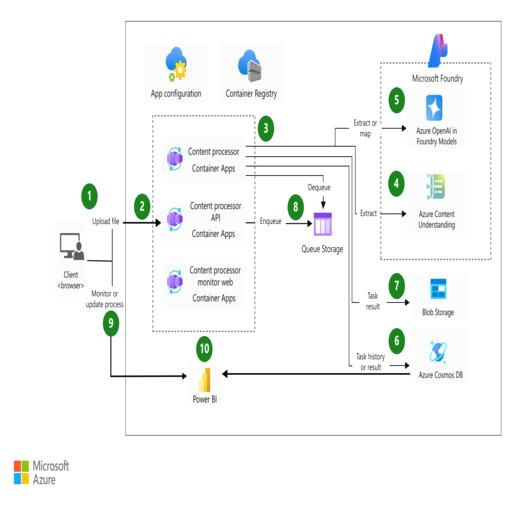actor: (56, 229, 89, 288)
api_gateway: (226, 372, 408, 376), (353, 56, 356, 268), (109, 374, 183, 379), (350, 126, 410, 132), (350, 297, 410, 302), (350, 362, 410, 367), (270, 156, 329, 161), (350, 212, 410, 216), (270, 144, 329, 148), (270, 168, 329, 172), (270, 180, 329, 184), (110, 222, 113, 296), (250, 220, 282, 225), (110, 220, 130, 225), (320, 196, 323, 214), (223, 368, 226, 380)
data_flow: (408, 172, 468, 232), (408, 91, 468, 150), (158, 44, 192, 104)
database_storage: (165, 138, 239, 182), (165, 200, 239, 244), (165, 264, 239, 308), (190, 363, 218, 407)
network_security: (408, 278, 468, 322), (408, 336, 468, 380), (234, 44, 268, 104), (308, 208, 336, 252)
trust_boundary: (126, 17, 501, 439), (153, 113, 255, 332), (379, 62, 491, 261)
